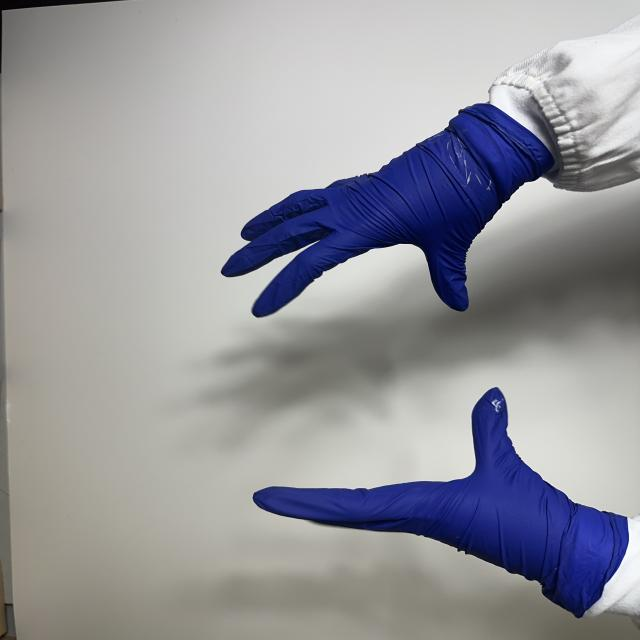gloves_contaminated: (254, 388, 628, 616), (222, 104, 553, 317)
